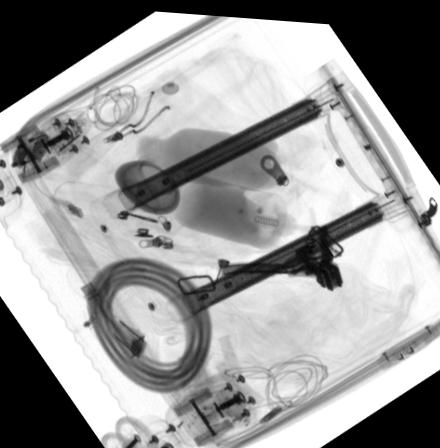Pliers: (222, 218, 342, 287)
